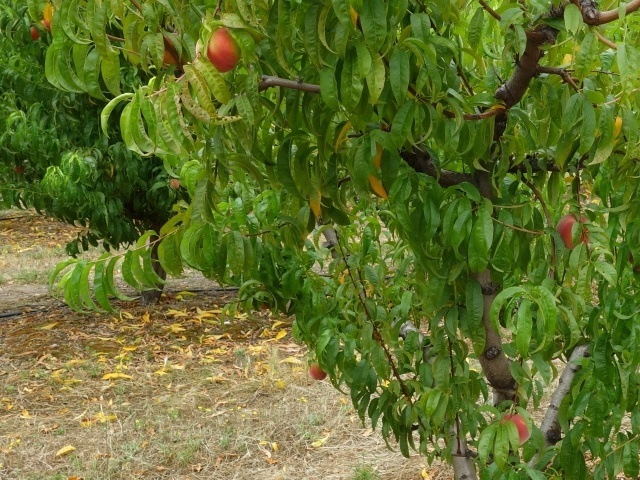peach: (204, 25, 247, 75), (555, 208, 597, 253), (499, 407, 532, 446), (308, 358, 331, 387)
